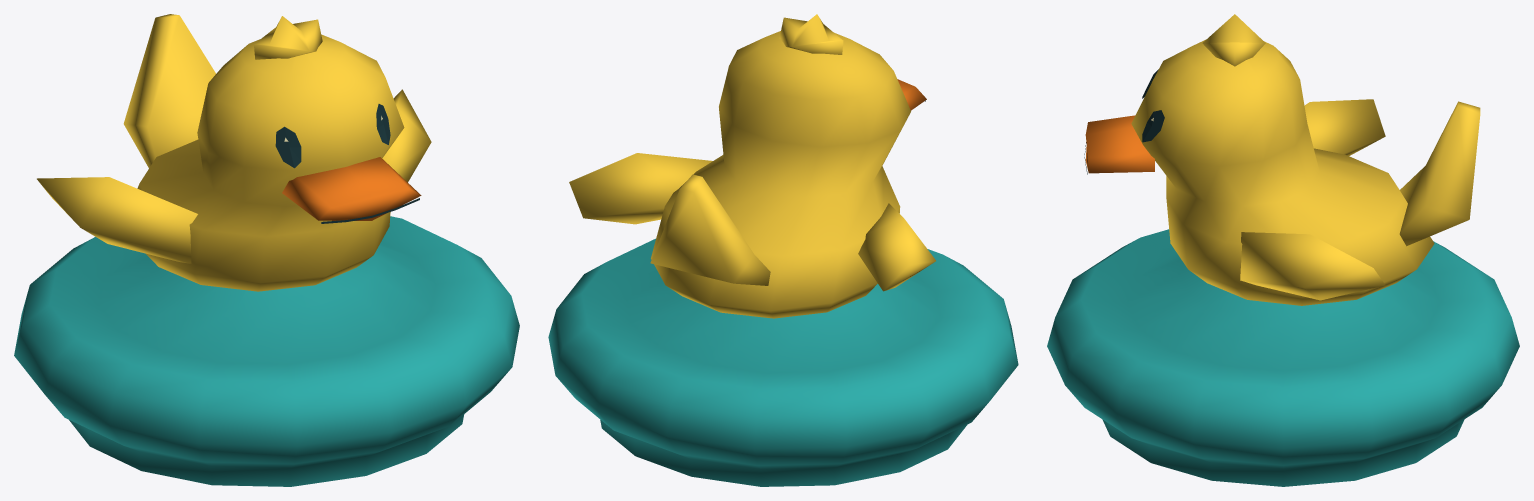
File: hat-quack-captain.glb
3 views of the same model, side by side, from view 1: azimuth 30°, elevation 25°; view 2: azimuth 150°, elevation 25°; view 3: azimuth 270°, elevation 25° (orthographic). The views are drawn at different scales.
Parts seen in each view (by area): view 1: hat-quack-captain_ref2_hat-quack-captain__head_mesh; view 2: hat-quack-captain_ref2_hat-quack-captain__head_mesh; view 3: hat-quack-captain_ref2_hat-quack-captain__head_mesh.
Part boxes in pixels (box(x1,y1,x2,y2)): hat-quack-captain_ref2_hat-quack-captain__head_mesh: box(14, 14, 519, 486); hat-quack-captain_ref2_hat-quack-captain__head_mesh: box(548, 14, 1018, 486); hat-quack-captain_ref2_hat-quack-captain__head_mesh: box(1047, 14, 1519, 486).
Size of the model in its own units: 0.594 by 0.523 by 0.58.
